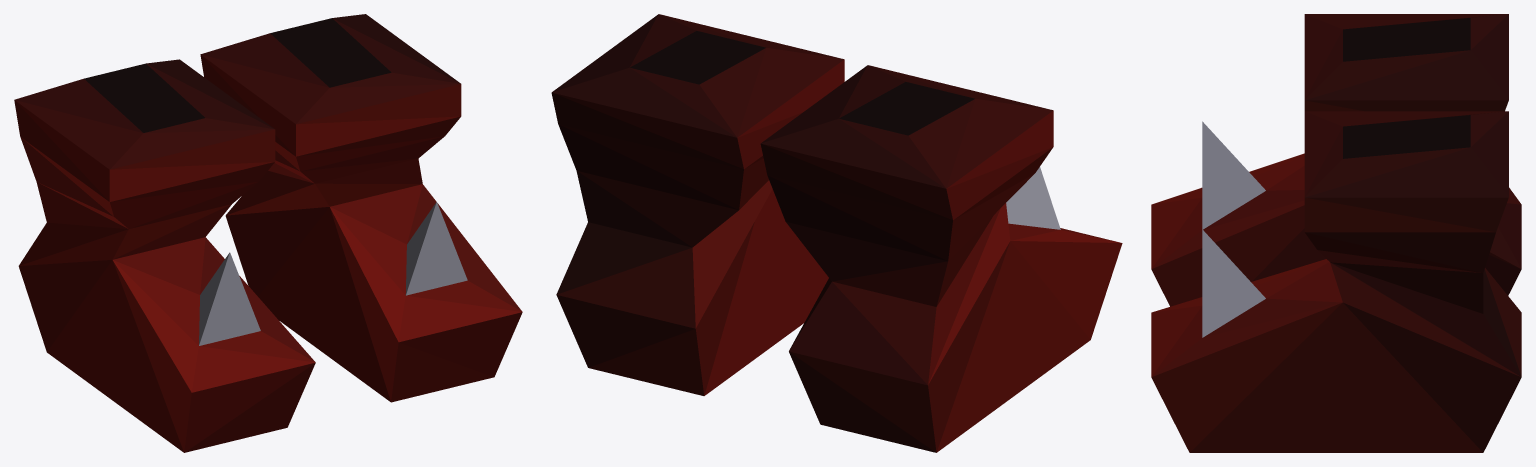
File: dragon-boots.obj
3 views of the same model, side by side, from view 1: azimuth 30°, elevation 25°; view 2: azimuth 150°, elevation 25°; view 3: azimuth 270°, elevation 25° (orthographic). The views are drawn at different scales.
Visible parts, largest first — view 1: Item Dragon boots 2026-09-24_18-23-50; view 2: Item Dragon boots 2026-09-24_18-23-50; view 3: Item Dragon boots 2026-09-24_18-23-50.
Part boxes in pixels (x1,y1,x2,y2): Item Dragon boots 2026-09-24_18-23-50: (14, 14, 522, 452); Item Dragon boots 2026-09-24_18-23-50: (551, 14, 1122, 452); Item Dragon boots 2026-09-24_18-23-50: (1151, 14, 1521, 452).
Size of the model in its own units: 34 by 25 by 29.
